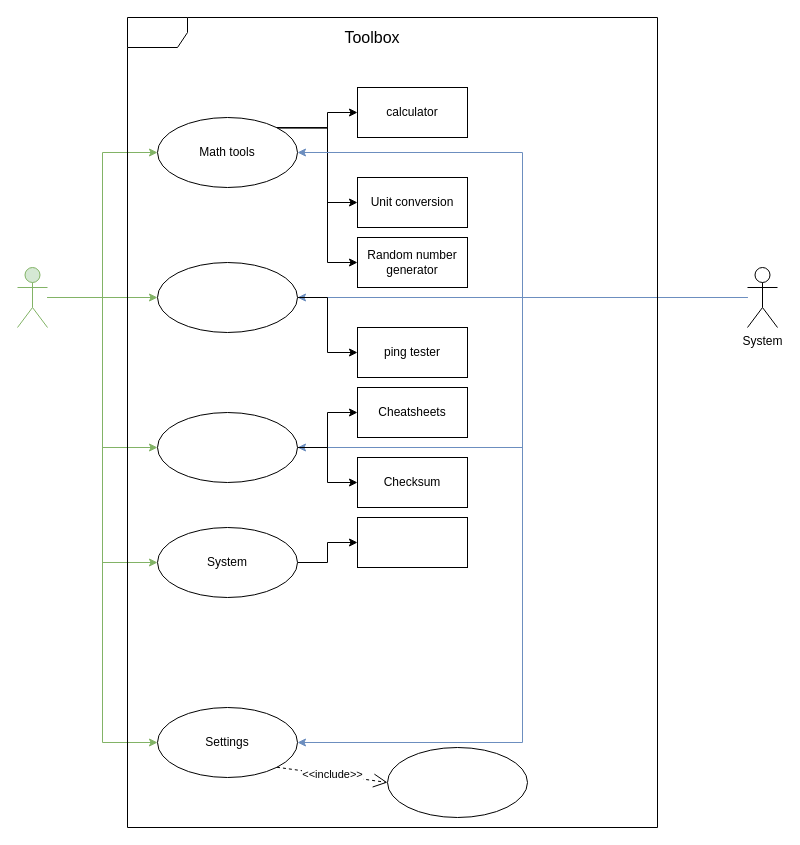
Image size: 800x845. Some labels were removed from this diagram. The shapes that lost their labels are listed below. From the top down, each one's box as (x1, y1, x2, y2) in pixels, then its label:
(16, 266, 48, 328): User
(156, 262, 298, 332): Network tools
(156, 412, 298, 482): File tools
(356, 516, 468, 568): System info
(386, 746, 528, 818): store settings
